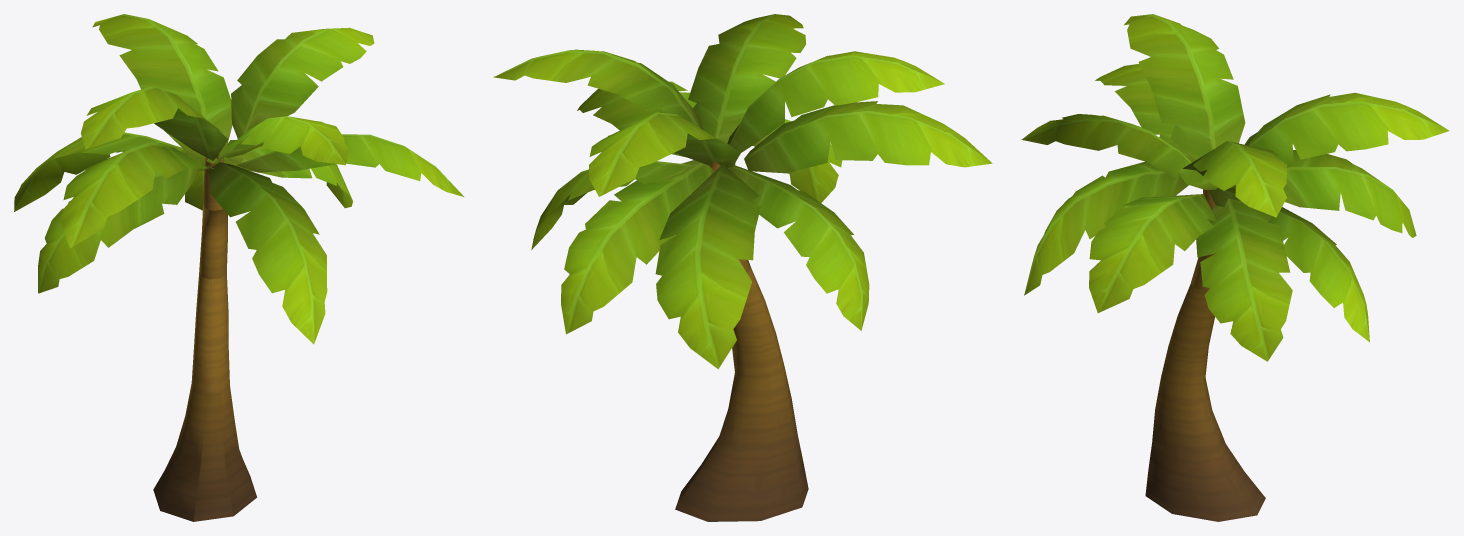
Rendered from SM_Coconut20.fbx.
3 renders of one model, left to right at view 1: azimuth 30°, elevation 25°; view 2: azimuth 150°, elevation 25°; view 3: azimuth 270°, elevation 25°, orthographic. The views are drawn at different scales.
Parts seen in each view (by area): view 1: SM_Coconut20_LOD0; view 2: SM_Coconut20_LOD0; view 3: SM_Coconut20_LOD0.
Boxes of the visible parts, bbox=[...] form: SM_Coconut20_LOD0: bbox=[14, 14, 463, 521]; SM_Coconut20_LOD0: bbox=[493, 14, 992, 521]; SM_Coconut20_LOD0: bbox=[1021, 14, 1449, 521].
Size of what is drawn, in the model's own units: 157 by 166 by 150.
